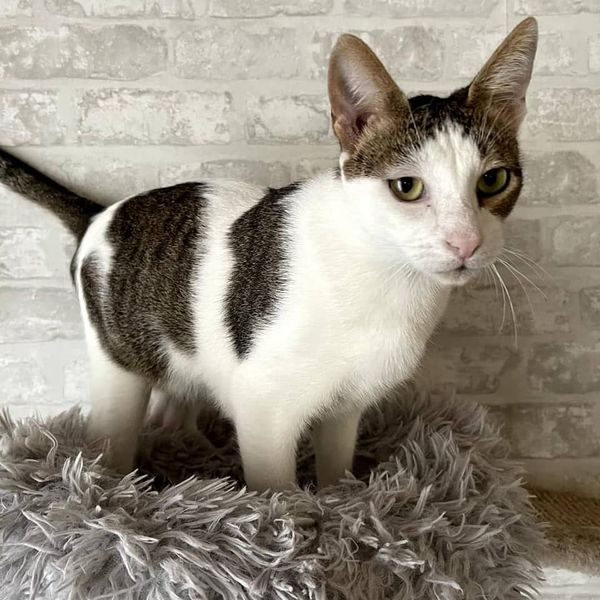cat: (11, 9, 557, 494)
